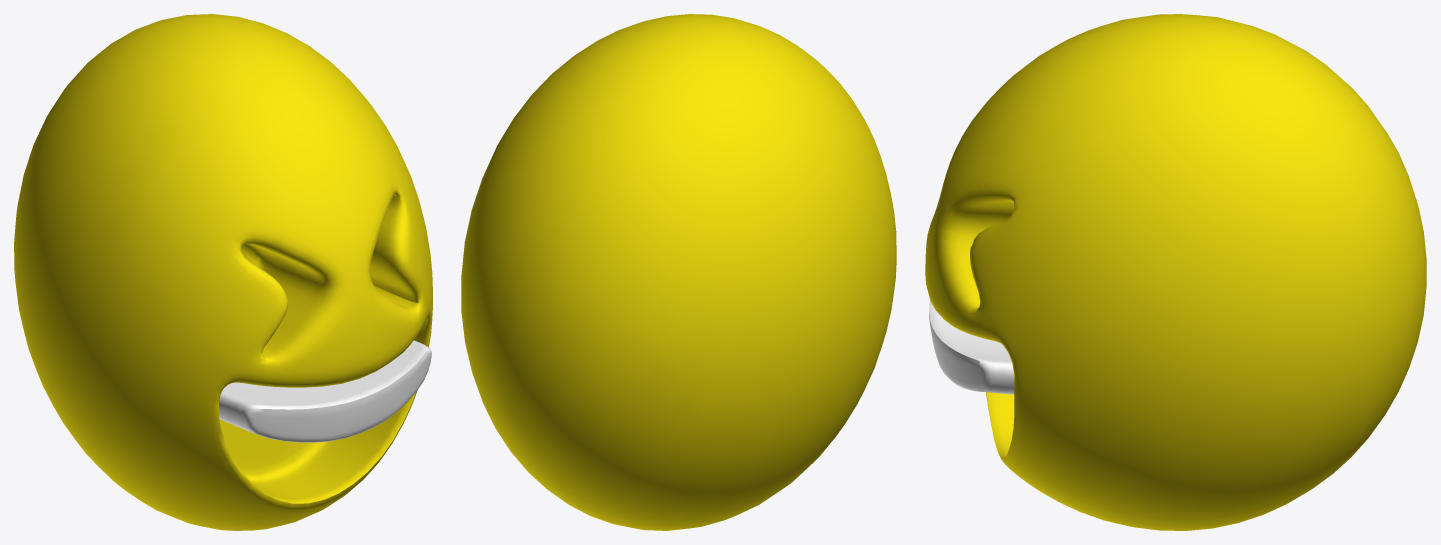
File: LOL.dae
3 renders of one model, left to right at view 1: azimuth 30°, elevation 25°; view 2: azimuth 150°, elevation 25°; view 3: azimuth 270°, elevation 25°, orthographic. The views are drawn at different scales.
Visible parts, largest first — view 1: Group12449, Group36994; view 2: Group12449; view 3: Group12449, Group36994.
Part boxes in pixels (left/top/right/bottom): Group12449: left=14, top=14, right=432, bottom=530; Group36994: left=219, top=340, right=431, bottom=442; Group12449: left=461, top=14, right=896, bottom=530; Group12449: left=925, top=14, right=1426, bottom=530; Group36994: left=929, top=300, right=1014, bottom=394.
Size of the model in its own units: 19.7 by 25.84 by 24.17.
2 materials, 2 textured.
